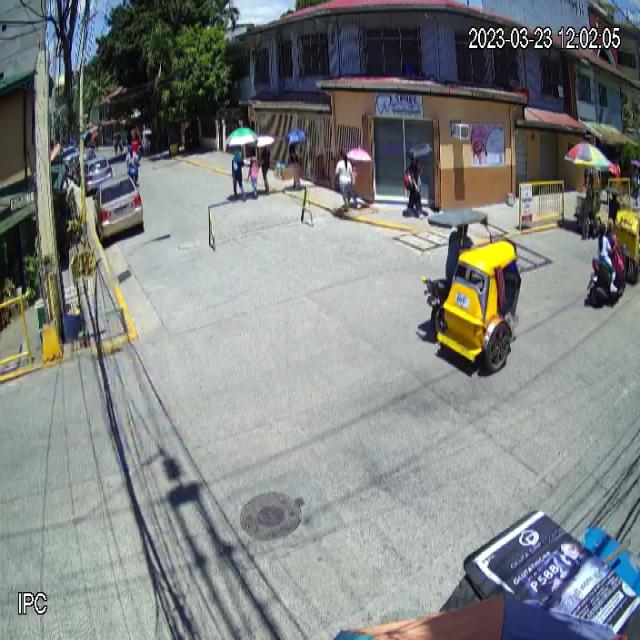Car: (92, 173, 144, 243)
Tricycle: (420, 207, 523, 373)
